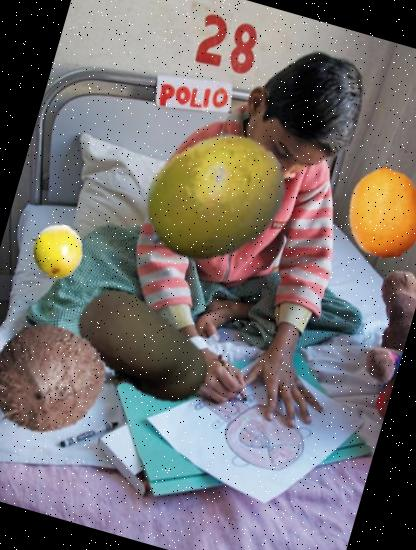Cocos: (0, 302, 124, 454)
Lemon: (327, 153, 416, 268)
Maracuja: (121, 106, 307, 292), (22, 216, 90, 284)
Peach: (50, 262, 228, 440)
